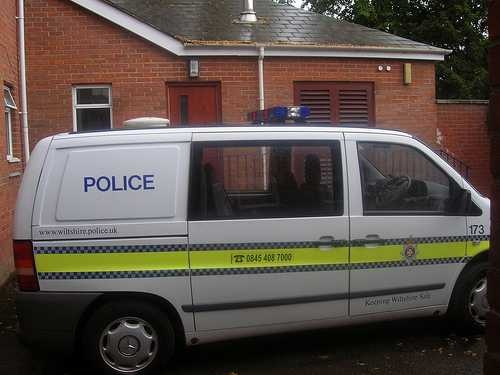Police Van: (23, 96, 486, 365)
